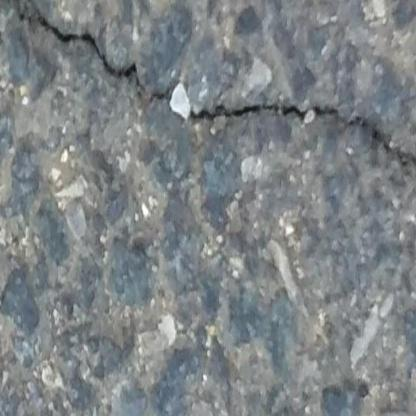Cracks: (0, 0, 416, 184)
